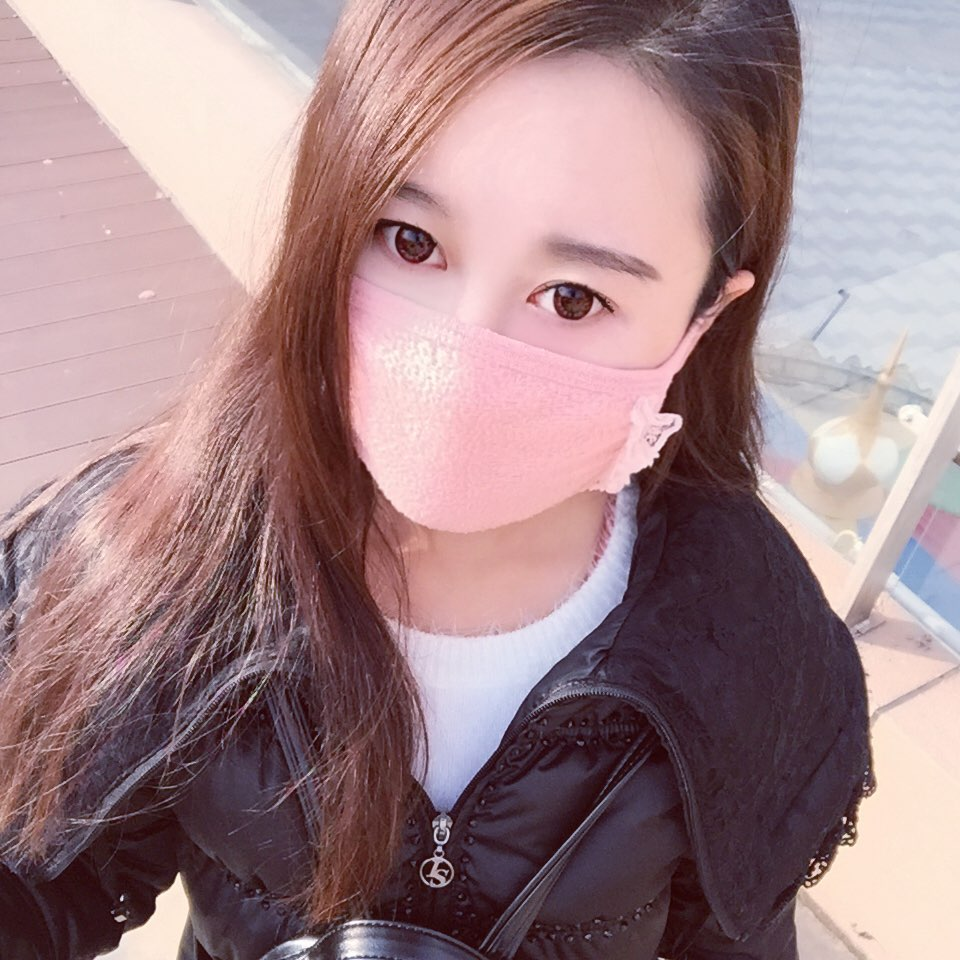face_mask: (330, 55, 695, 533)
